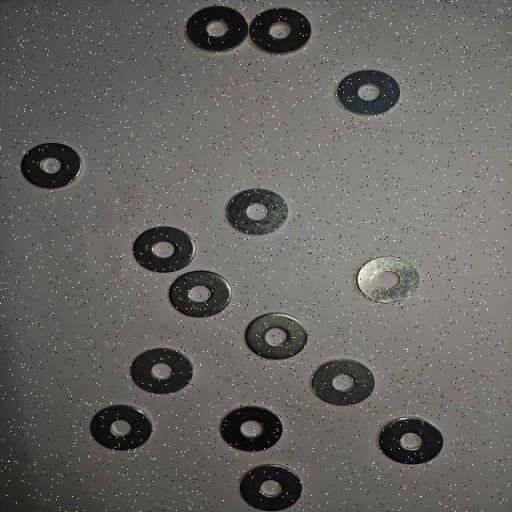washer: (378, 417, 444, 465), (239, 463, 303, 512), (130, 346, 193, 394), (245, 312, 308, 360), (356, 256, 420, 303), (312, 358, 374, 406), (226, 188, 288, 236), (169, 270, 231, 318), (20, 142, 82, 190), (90, 404, 152, 451), (133, 226, 195, 273), (220, 406, 282, 452), (186, 6, 248, 52), (250, 8, 312, 54), (338, 70, 400, 116)
